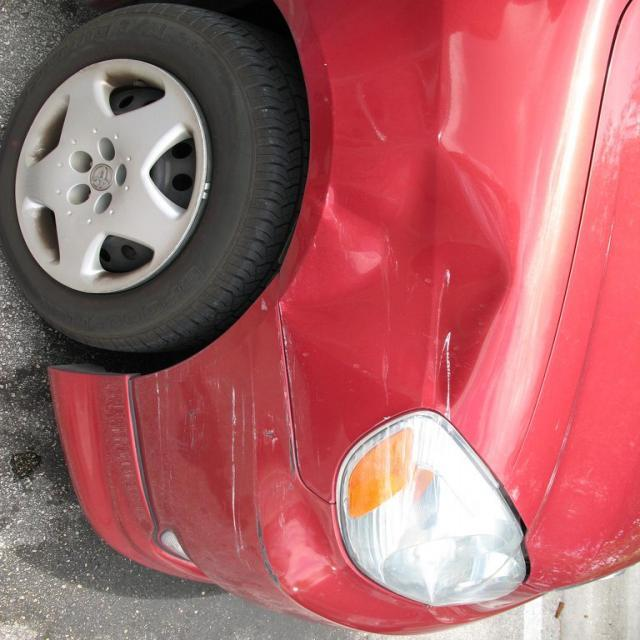dent: (243, 101, 565, 512)
